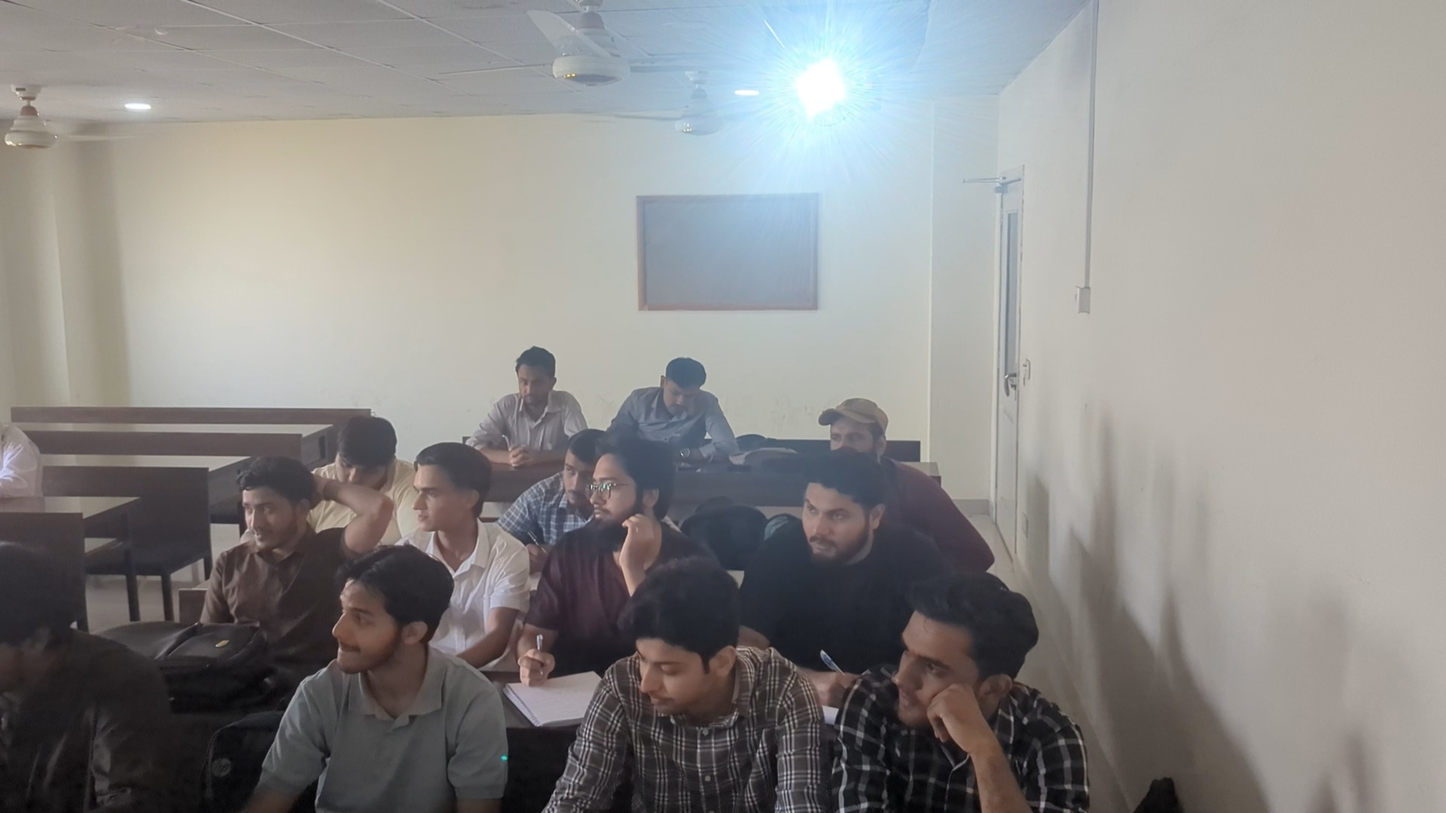look_forward: (236, 536, 506, 809), (826, 559, 1077, 813), (0, 538, 181, 813), (749, 440, 913, 644), (186, 448, 342, 627), (544, 439, 667, 644), (470, 333, 600, 461), (398, 437, 500, 545), (527, 428, 602, 525), (807, 387, 898, 450)
read: (553, 558, 823, 813)
write: (625, 347, 738, 469), (318, 415, 407, 495)
